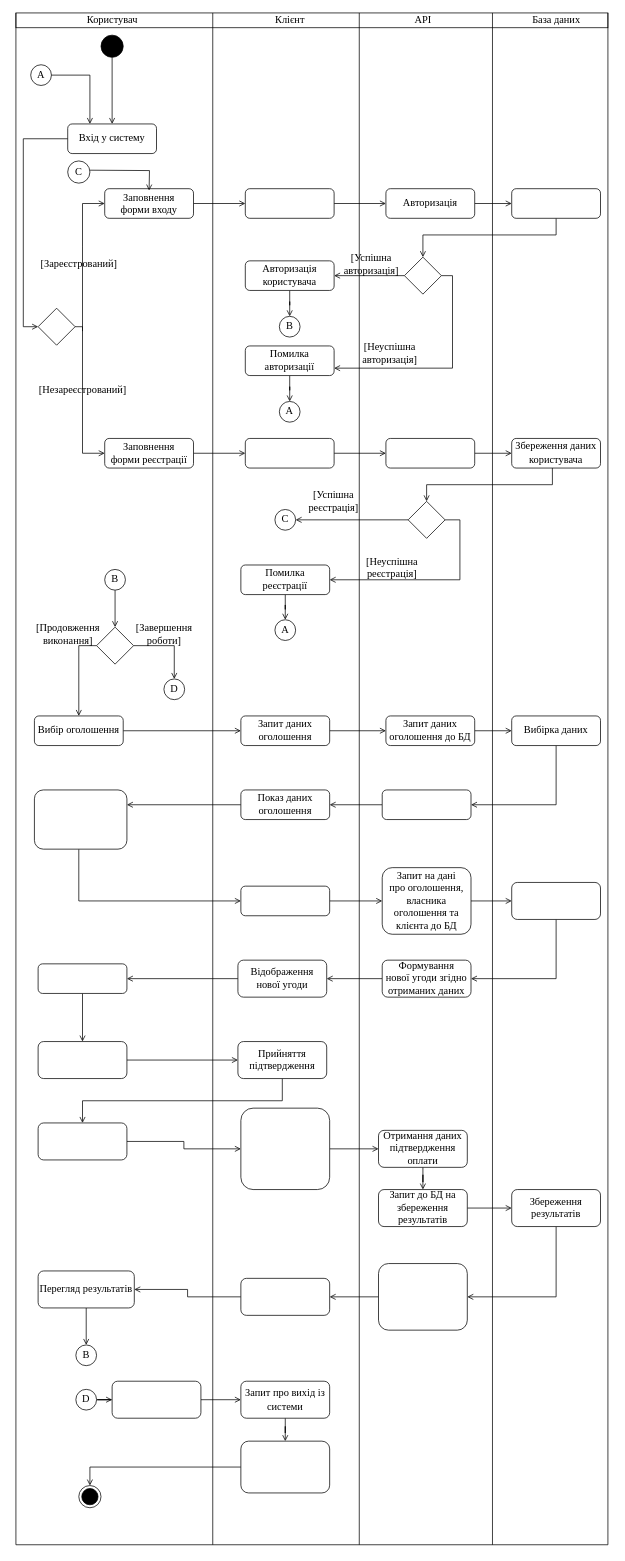
Image size: 625x1561. Some labels were removed from this diagram. Here are the shapes that lost their labels. From the top down, the box of each, then its label:
(245, 188, 334, 218): Надсилання форми авторизації
(511, 188, 601, 218): Отримання даних користувача
(245, 438, 334, 468): Надсилання форми реєстрації
(385, 438, 475, 468): Реєстрація
(34, 789, 127, 849): Перегляд даних оголошення. Створення угоди купівлі
(381, 789, 471, 820): Формування даних оголошення
(240, 885, 330, 916): Запит на створення нової угоди
(511, 882, 601, 919): Вибірка необхідної інформації з БД
(37, 963, 127, 993): Перегляд угоди.
(37, 1041, 127, 1079): Погодження
(37, 1122, 127, 1160): Збереження. Перехід до оплати
(240, 1107, 330, 1190): Запит на оплату. Зв'язок з API для оплати. Отримання даних підтвердження оплати
(240, 1278, 330, 1315): Відображення результатів
(378, 1263, 467, 1330): Формування відповіді з підтвердженням виконання всіх операцій
(111, 1380, 201, 1418): Вихід із системи
(240, 1440, 330, 1493): Відображення сторінки для неавторизованих користувачів
